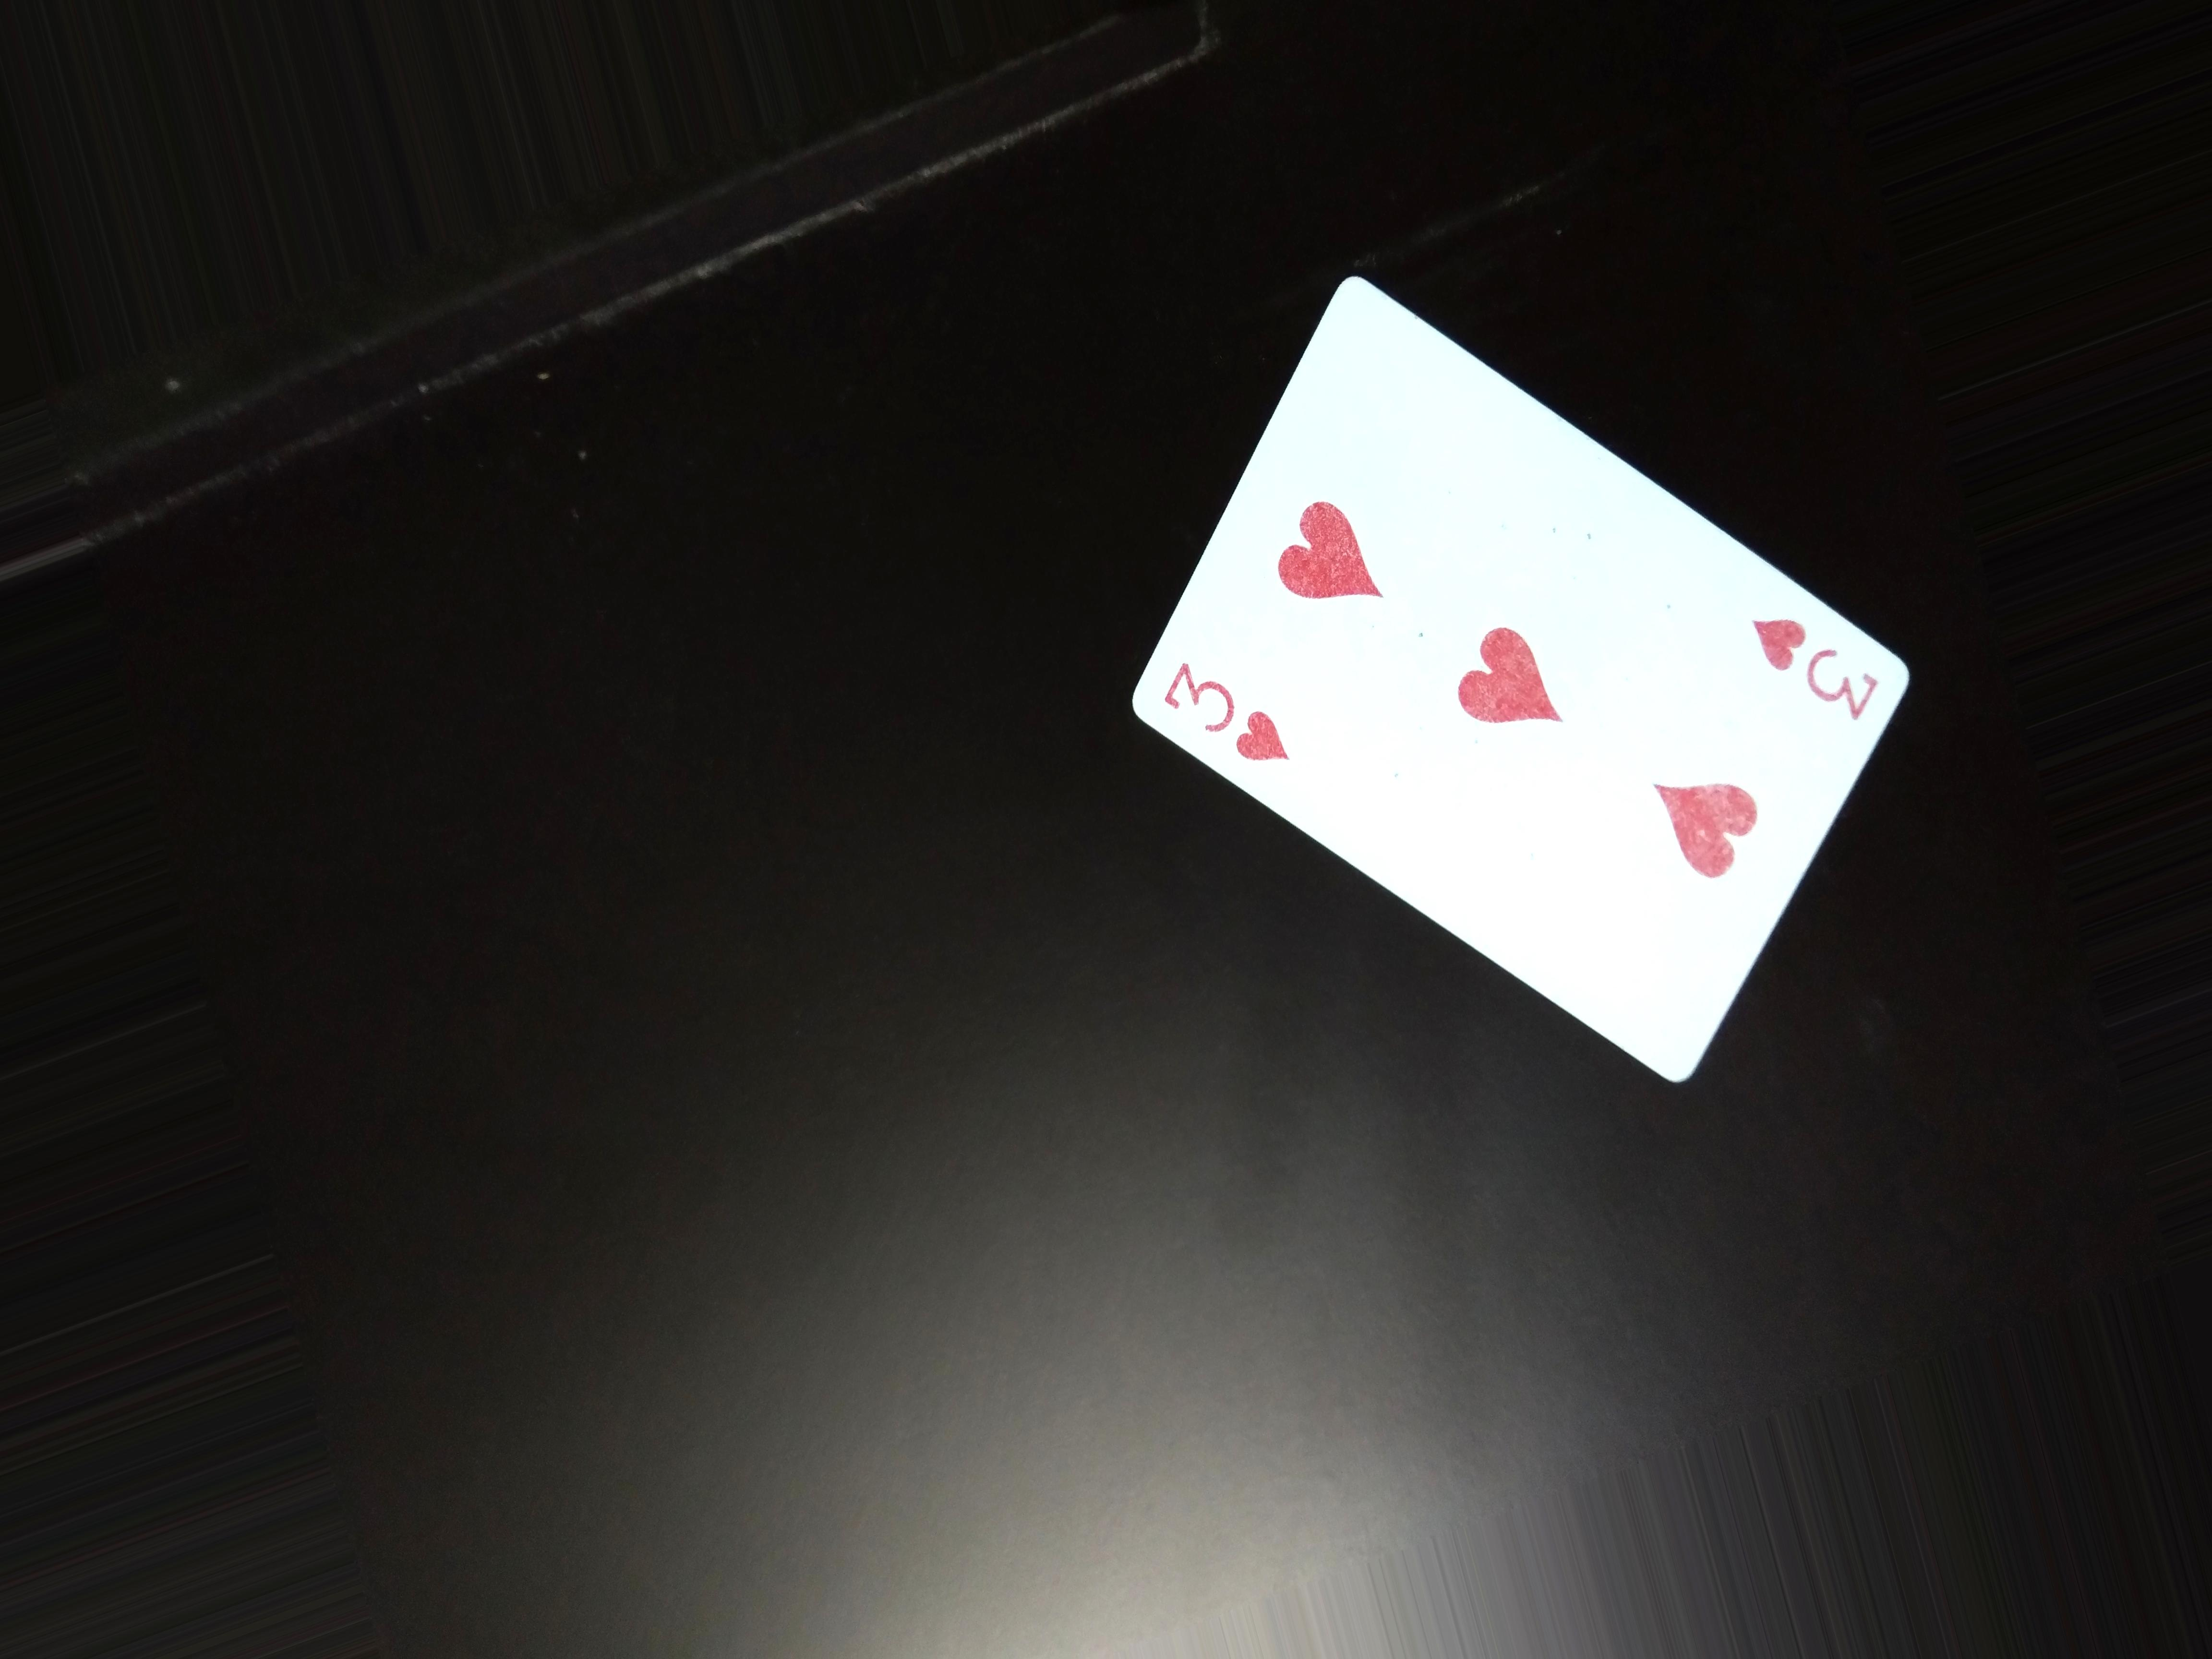3H: (1747, 605, 1895, 730)
